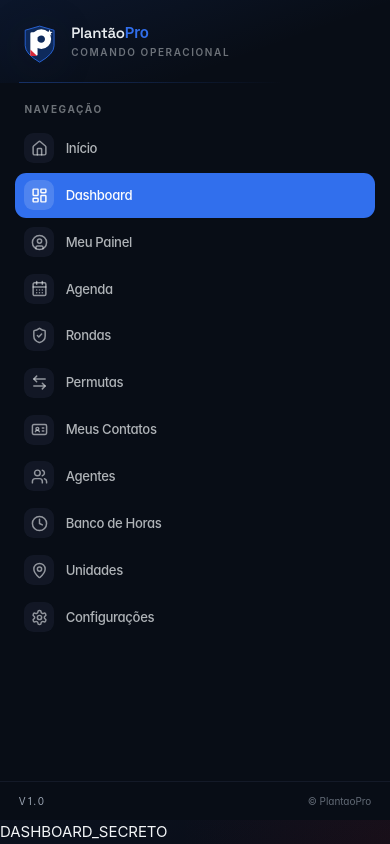
Test: MobileSidebar — guards de navegação › visitante clica em 'Dashboard' e vai pra tela de identificação
Click the link "Dashboard": point(99, 195) [15,173,375,218]
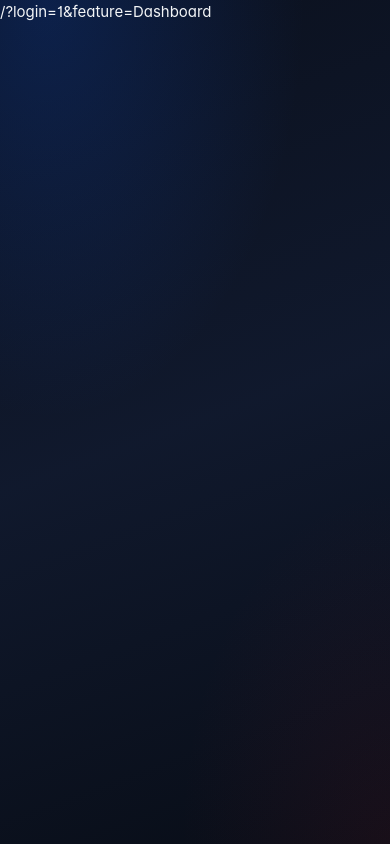
Now the text "DASHBOARD_SECRETO" is gone
Now the text with test id "location-probe" shows "/?login=1", box [5,2,211,21]
